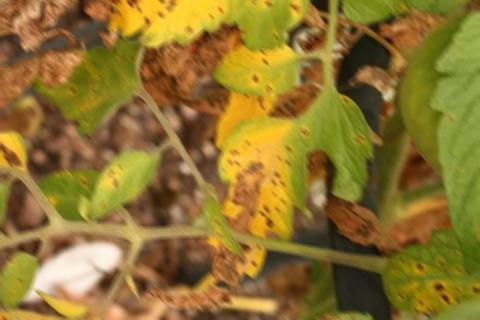Tomato Septoria leaf spot: (197, 90, 330, 282), (212, 36, 304, 103)
